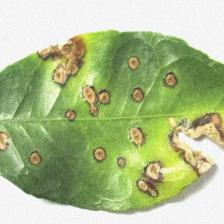canker: (22, 33, 224, 200)
